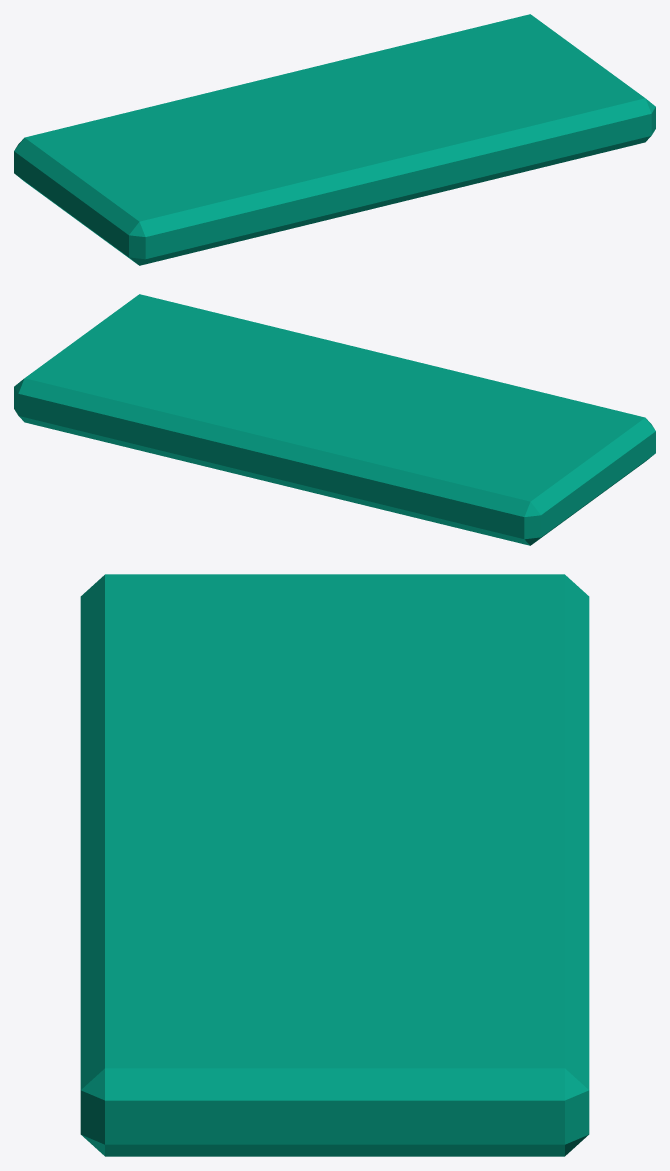
File: Bed_Mattress.fbx
The picture shows the model from 3 angles, top to bottom: view 1: azimuth 30°, elevation 25°; view 2: azimuth 150°, elevation 25°; view 3: azimuth 270°, elevation 25°; orthographic projection. The views are drawn at different scales.
Parts seen in each view (by area): view 1: Bed_Mattress; view 2: Bed_Mattress; view 3: Bed_Mattress.
Boxes of the visible parts, bbox=[...] form: Bed_Mattress: bbox=[14, 14, 655, 265]; Bed_Mattress: bbox=[14, 294, 655, 545]; Bed_Mattress: bbox=[80, 574, 589, 1156].
Size of the model in its own units: 1741 by 139 by 727.
